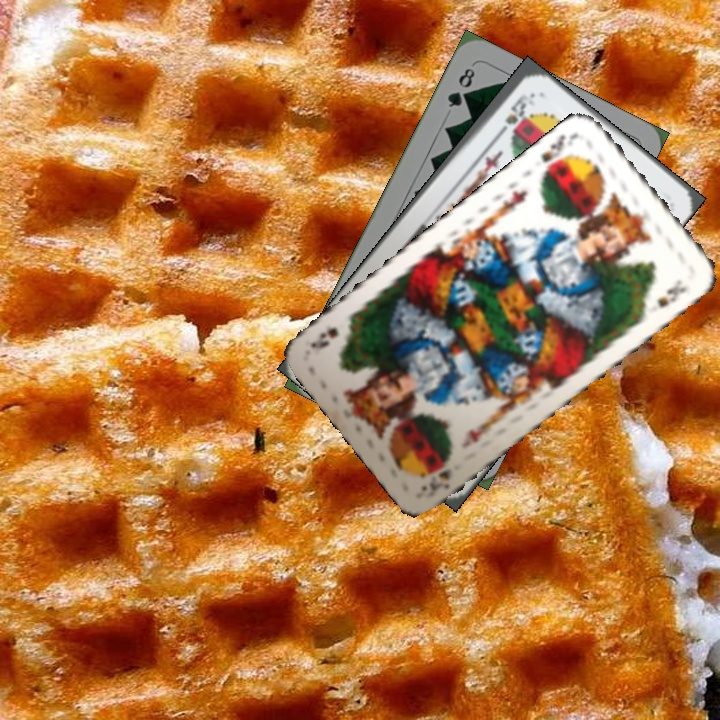G8: (443, 63, 478, 110)
SK: (492, 89, 536, 141), (537, 128, 581, 179), (417, 464, 454, 499)
